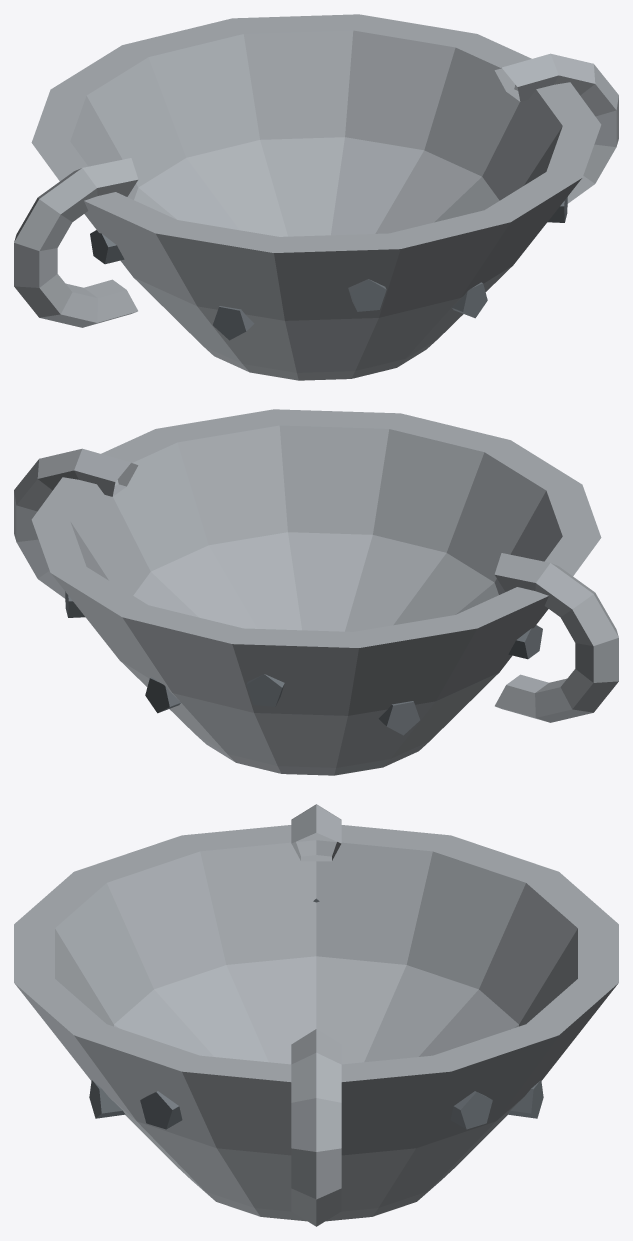
Rendered from SM_LPI_Ware_Colander_01.fbx.
3 renders of one model, top to bottom at view 1: azimuth 30°, elevation 25°; view 2: azimuth 150°, elevation 25°; view 3: azimuth 270°, elevation 25°, orthographic. The views are drawn at different scales.
Parts seen in each view (by area): view 1: SM_LPI_Ware_Colander_01; view 2: SM_LPI_Ware_Colander_01; view 3: SM_LPI_Ware_Colander_01.
Part boxes in pixels (x1,y1,x2,y2): SM_LPI_Ware_Colander_01: (14, 14, 618, 380); SM_LPI_Ware_Colander_01: (14, 409, 618, 775); SM_LPI_Ware_Colander_01: (14, 804, 618, 1226).
Bounding box in the file's own units: 0.2885 × 0.1005 × 0.2301.
